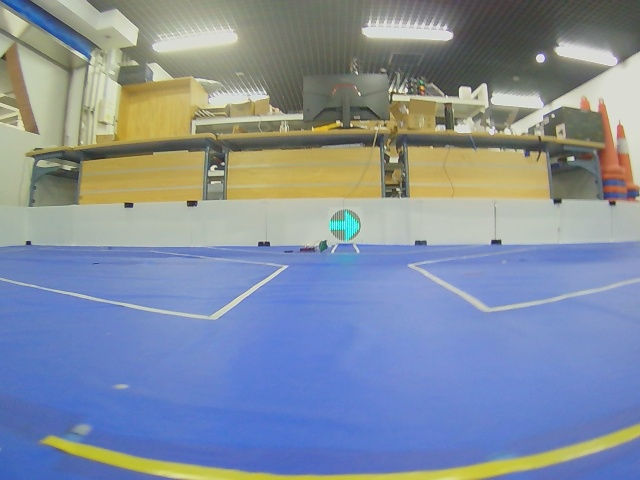right_green: (329, 209, 361, 241)
